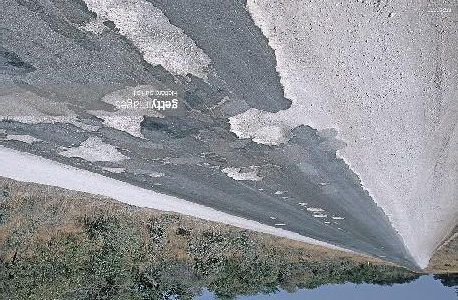pothole: (77, 0, 214, 82), (225, 107, 300, 150), (56, 136, 131, 165), (95, 114, 150, 143), (220, 164, 263, 184), (4, 132, 48, 145), (306, 205, 328, 215), (330, 216, 345, 222)
